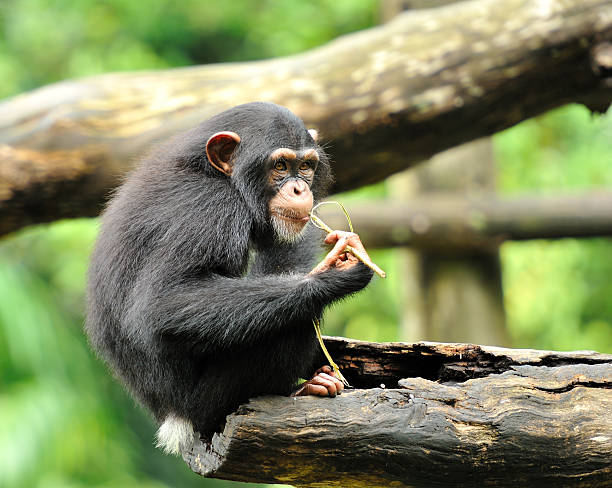chimpanzee: (198, 81, 330, 250)
